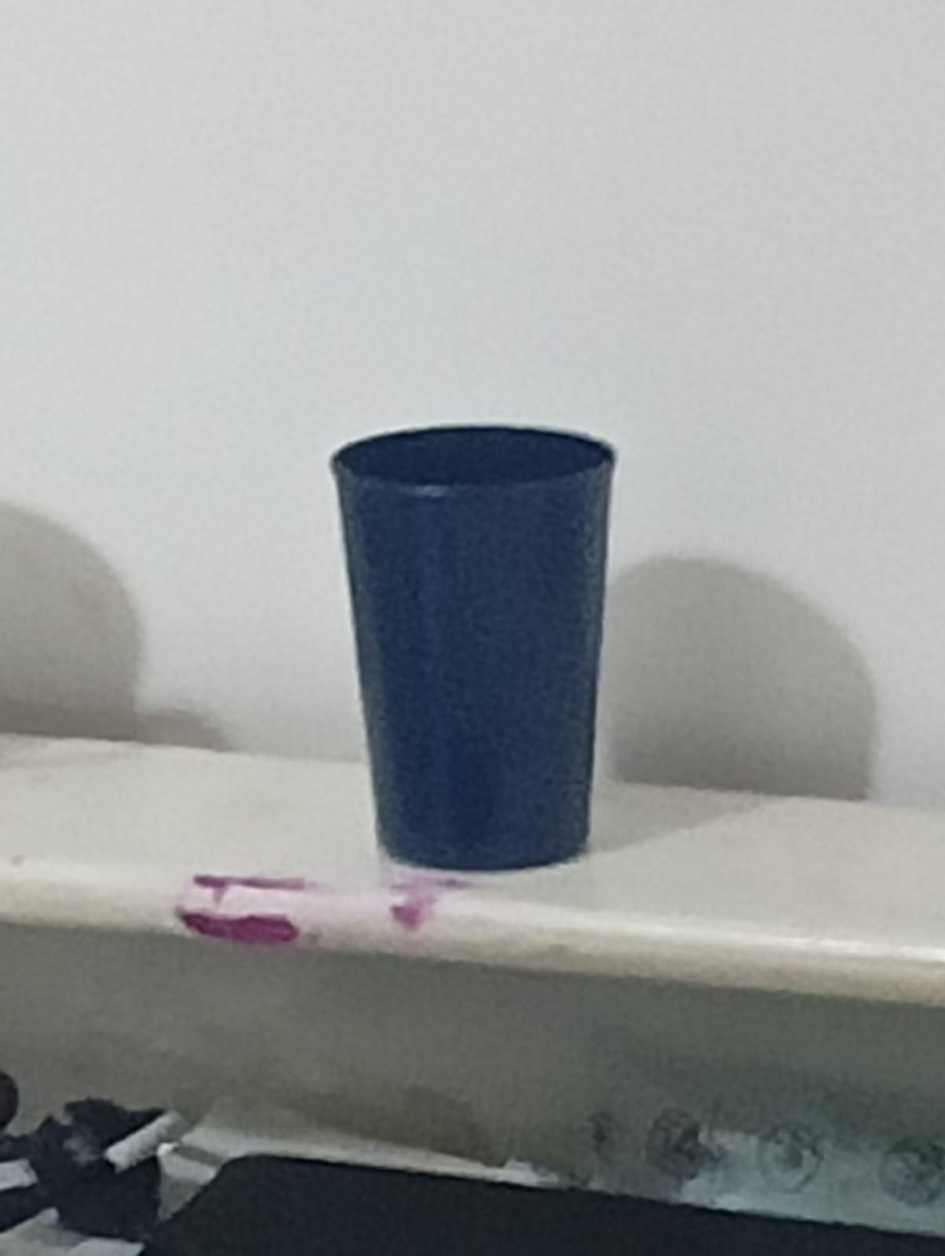cup: (331, 425, 615, 871)
